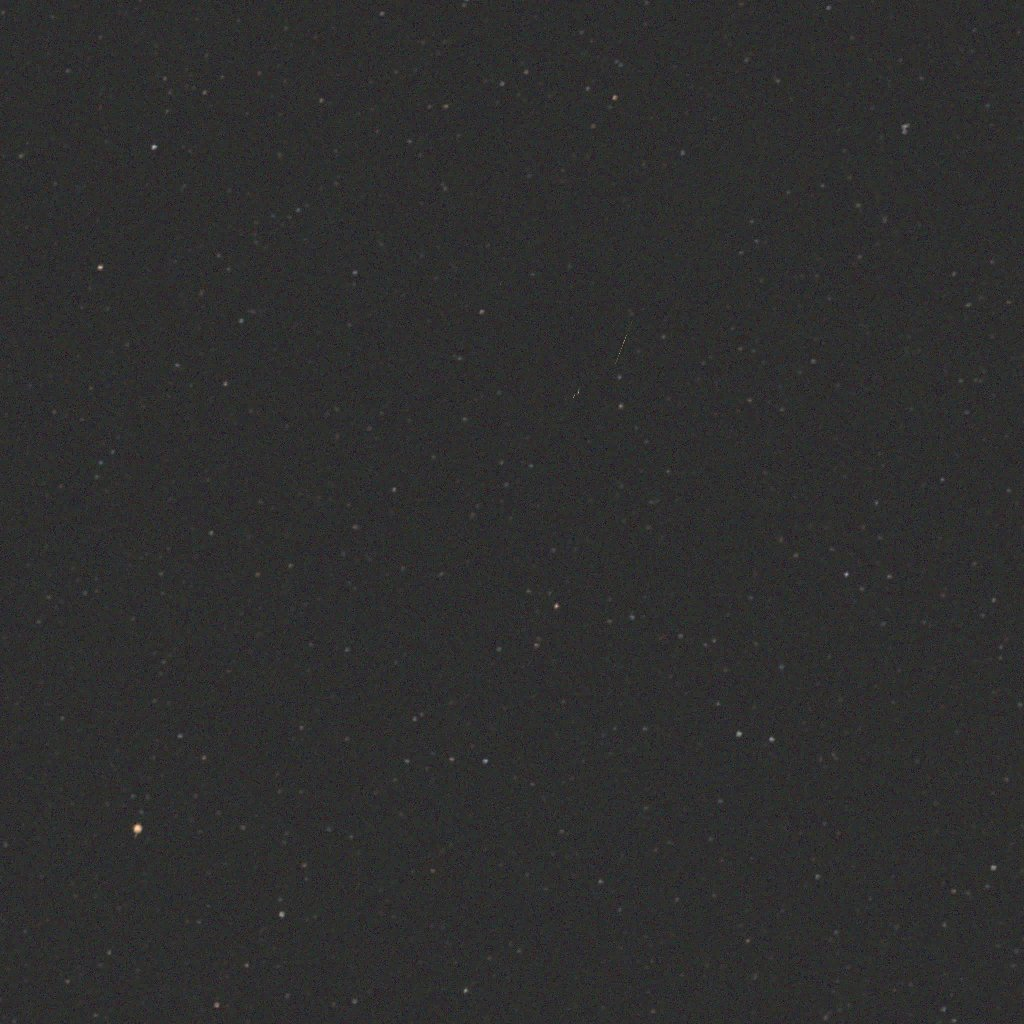earth_observation_sat_1: (467, 98, 822, 421)
